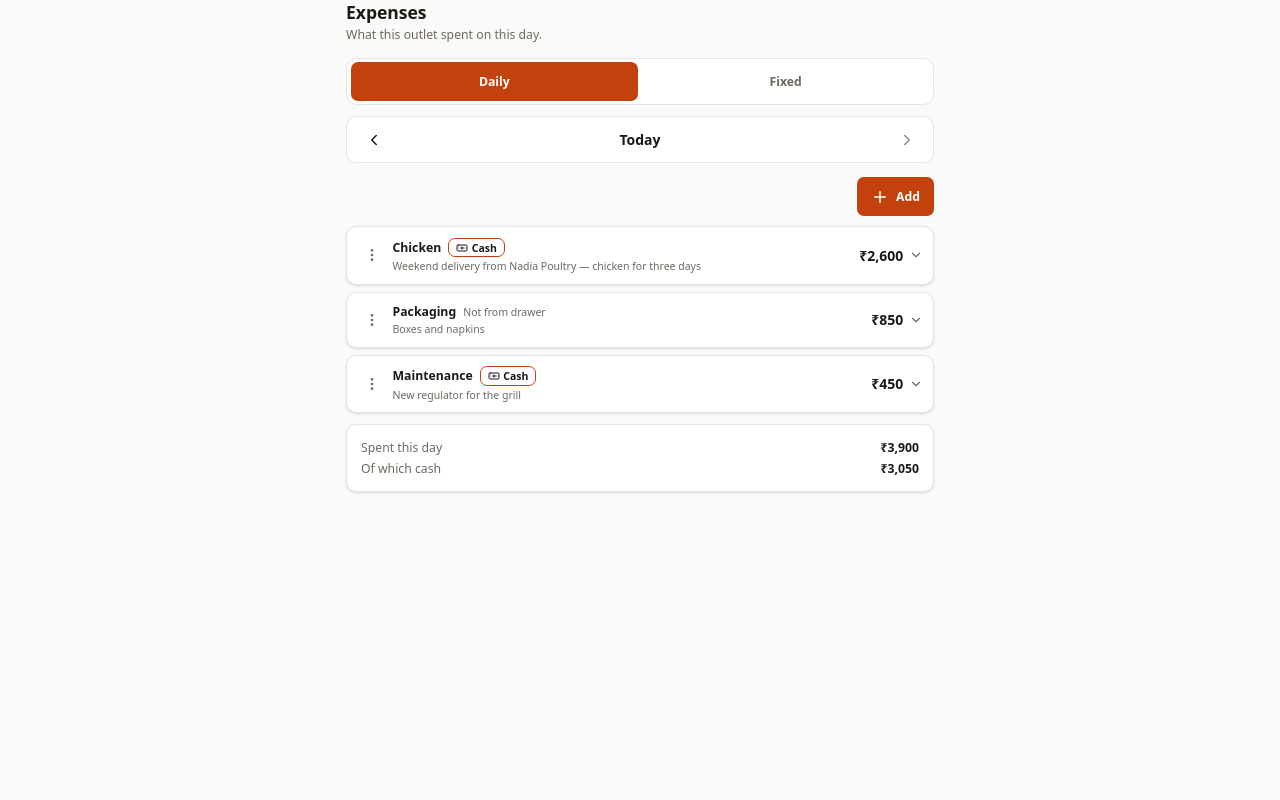
offers the category names from one names request
Click the button with test id "add-ledger-expense" at (896, 197), box top-left (857, 177), bottom-right (934, 216)
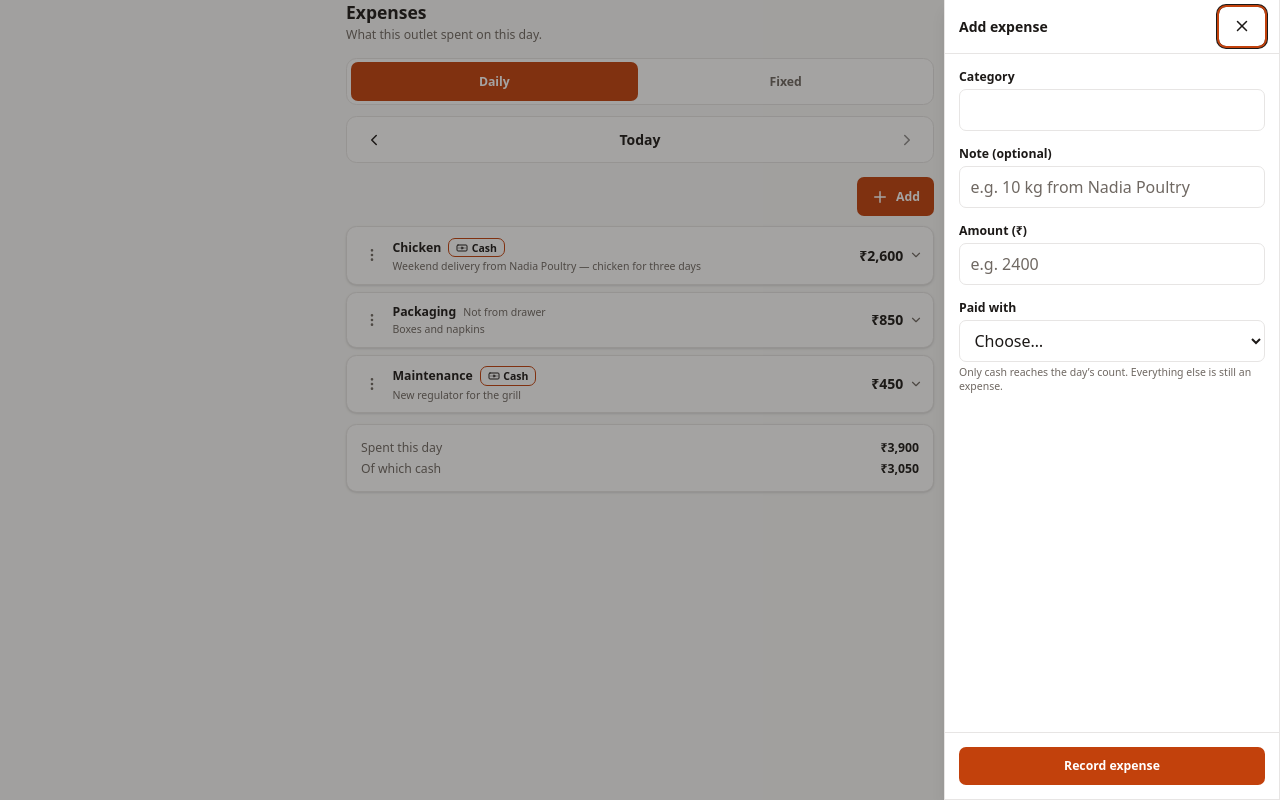
Click the dropdown named "Expense category" at (1112, 110), box top-left (959, 88), bottom-right (1265, 130)
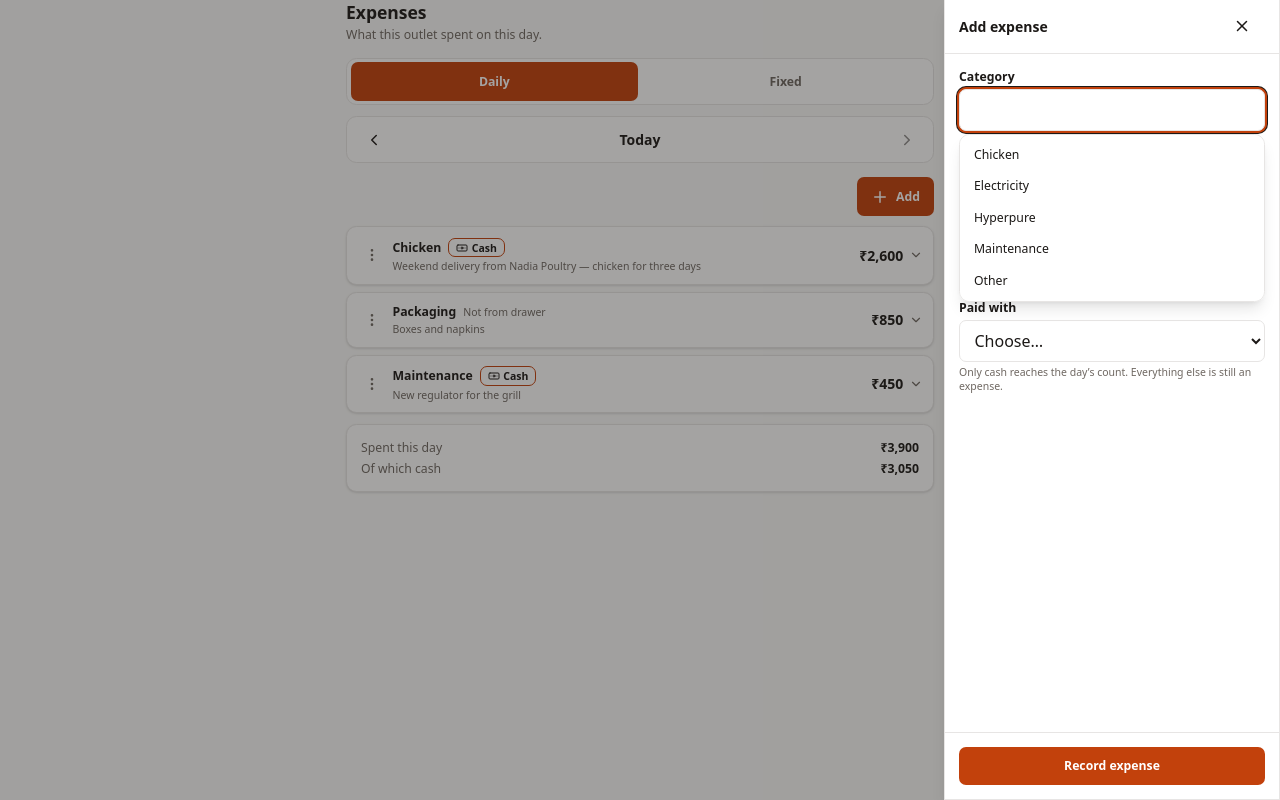
Expected: the option "Chicken" is shown, top-left (974, 146), bottom-right (1019, 162)
